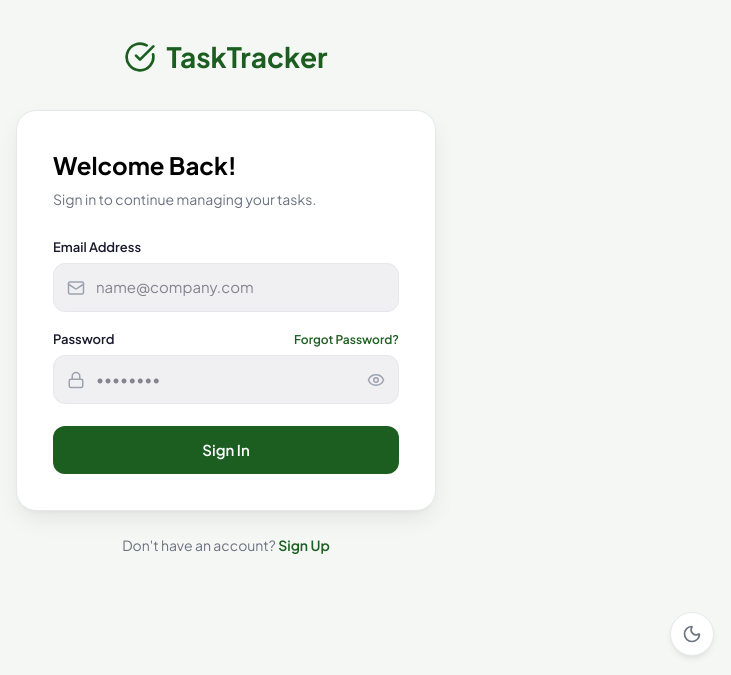
Scenario: LoginForm › shows validation error when email is empty and form is submitted
Click the button "Sign In": (226, 450) [53, 426, 399, 474]
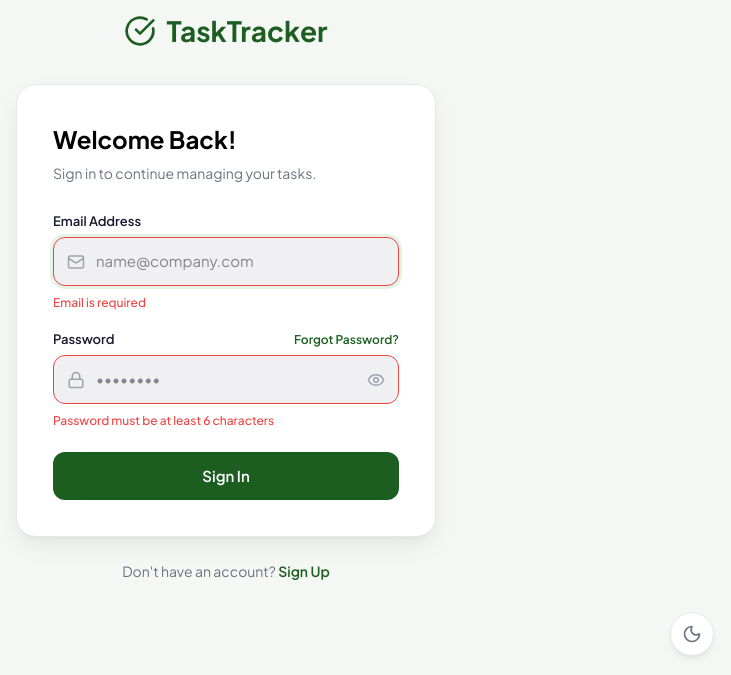
Now the text "Email is required" is shown, box [53, 295, 146, 310]
